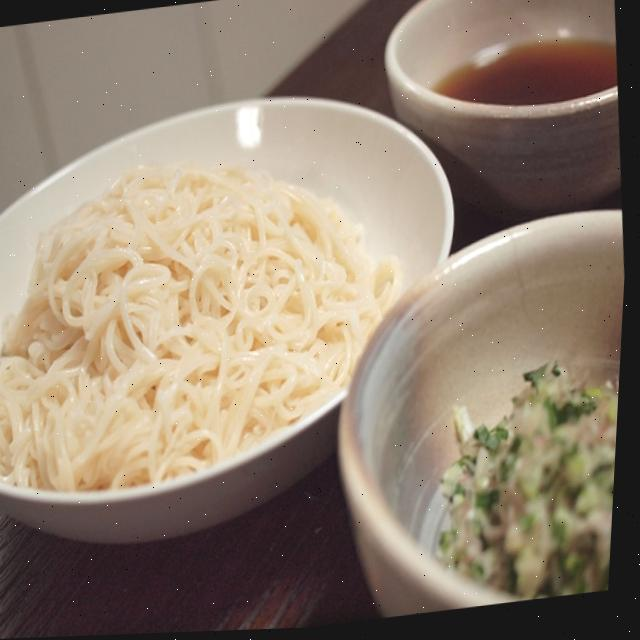面条主食: (0, 86, 443, 523)
